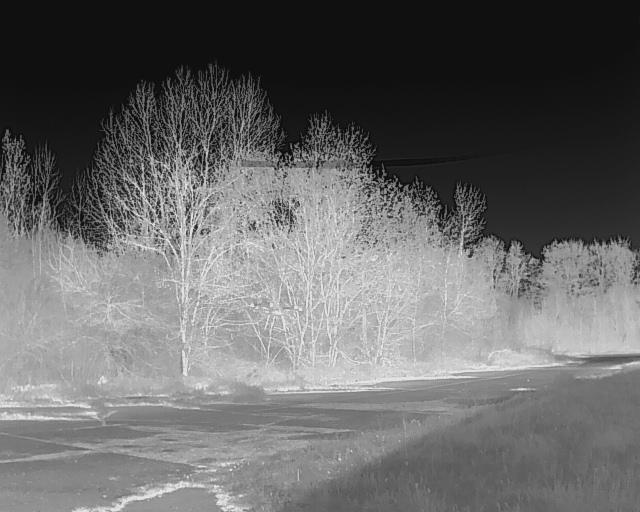drone: (270, 300, 301, 324)
